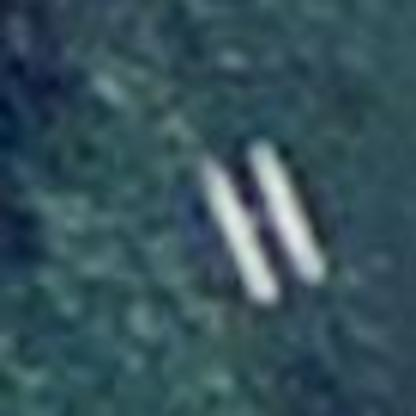ship: (171, 127, 350, 314)
